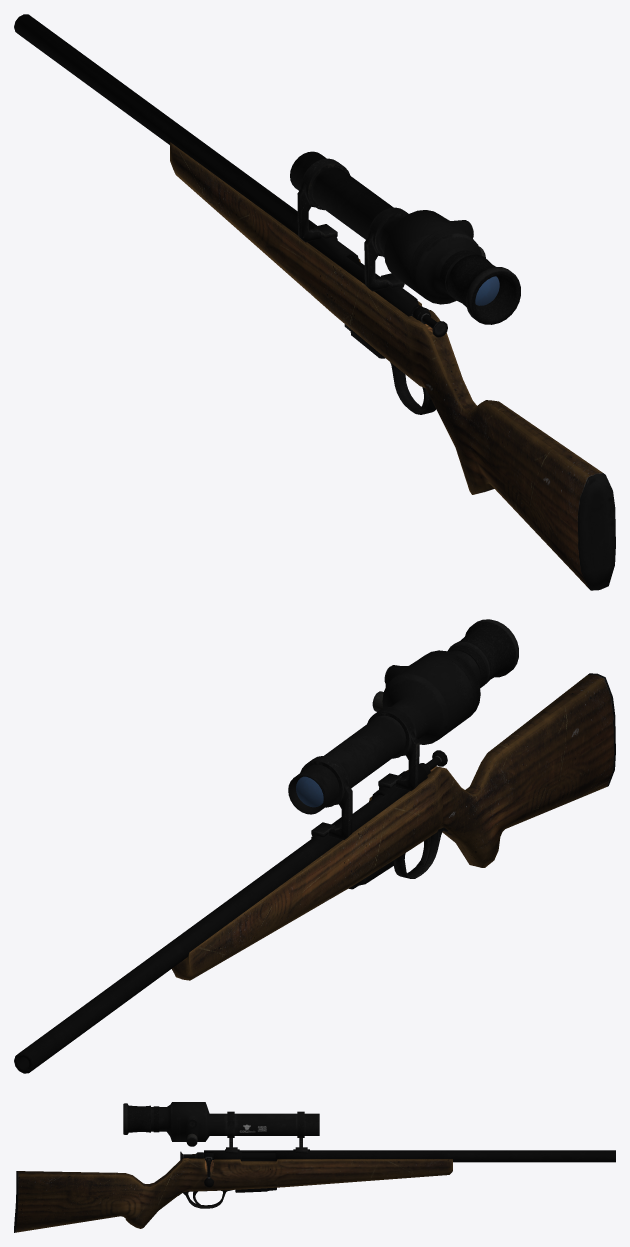
Rendered from wooden_bolt_rifle.glb.
3 views of the same model, one above another, from view 1: azimuth 30°, elevation 25°; view 2: azimuth 150°, elevation 25°; view 3: azimuth 270°, elevation 25° (orthographic). The views are drawn at different scales.
Visible parts, largest first — view 1: Object_3; view 2: Object_3, Object_2; view 3: Object_3.
Boxes of the visible parts, x1=… form: Object_3: x1=14, y1=14, x2=615, y2=590; Object_3: x1=14, y1=619, x2=615, y2=1073; Object_2: x1=296, y1=776, x2=323, y2=807; Object_3: x1=14, y1=1102, x2=615, y2=1232.
Size of the model in its own units: 0.1141 by 0.3136 by 1.34.
2 materials, 2 textured.
